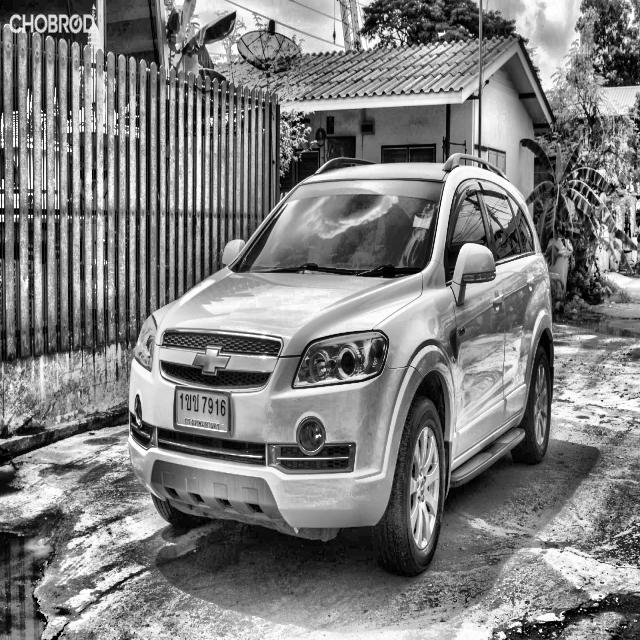license-plate: (172, 383, 234, 440)
